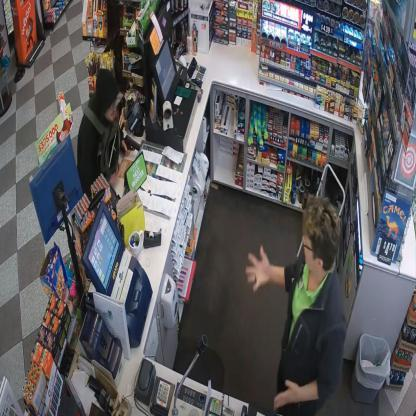pistols: (120, 133, 142, 158)
